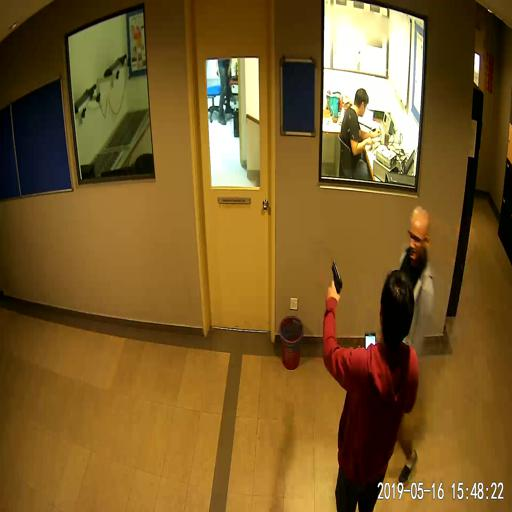pistol: (329, 260, 342, 298)
